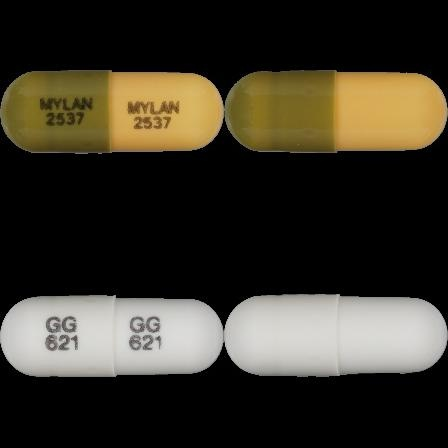0615-1333: (0, 0, 224, 224)
